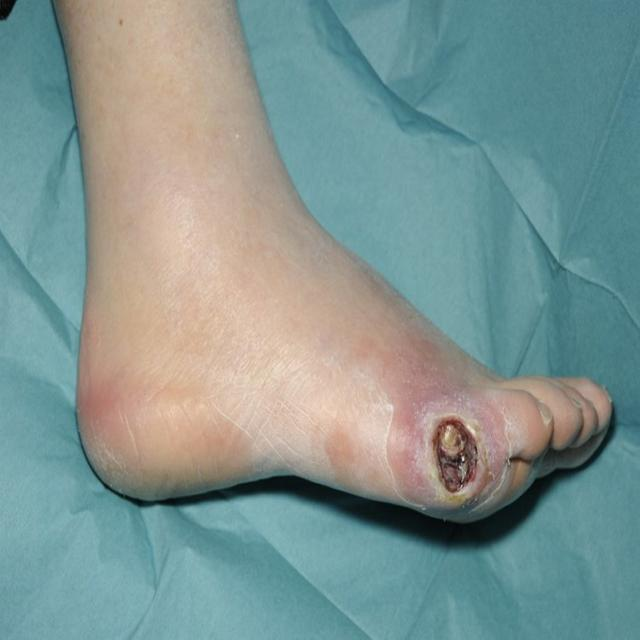wound: (434, 416, 479, 495)
